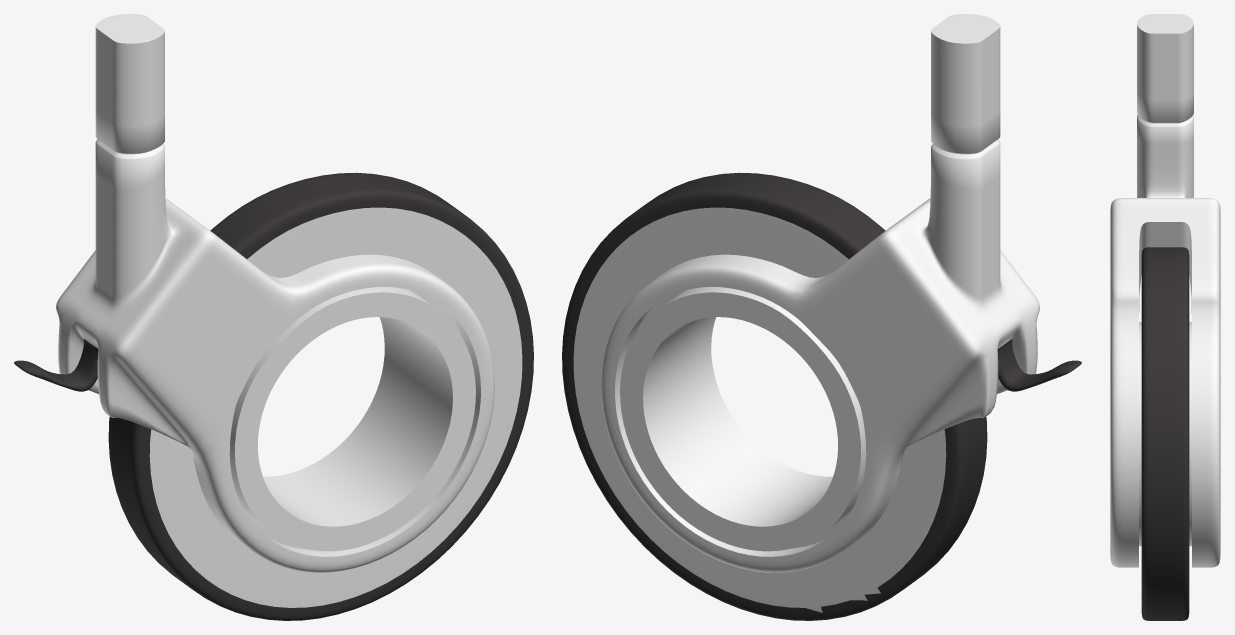
Rendered from source-v1.glb.
3 renders of one model, left to right at view 1: azimuth 30°, elevation 25°; view 2: azimuth 150°, elevation 25°; view 3: azimuth 270°, elevation 25°, orthographic. The views are drawn at different scales.
Parts seen in each view (by area): view 1: 带刹车脚轮（原模型）; view 2: 带刹车脚轮（原模型）; view 3: 带刹车脚轮（原模型）.
Boxes of the visible parts, x1,y1,x2,y2 form: 带刹车脚轮（原模型）: [14, 14, 533, 620]; 带刹车脚轮（原模型）: [562, 14, 1081, 620]; 带刹车脚轮（原模型）: [1110, 14, 1220, 620].
Size of the model in its own units: 69.65 by 82.59 by 16.34.
3 materials, 2 textured.
